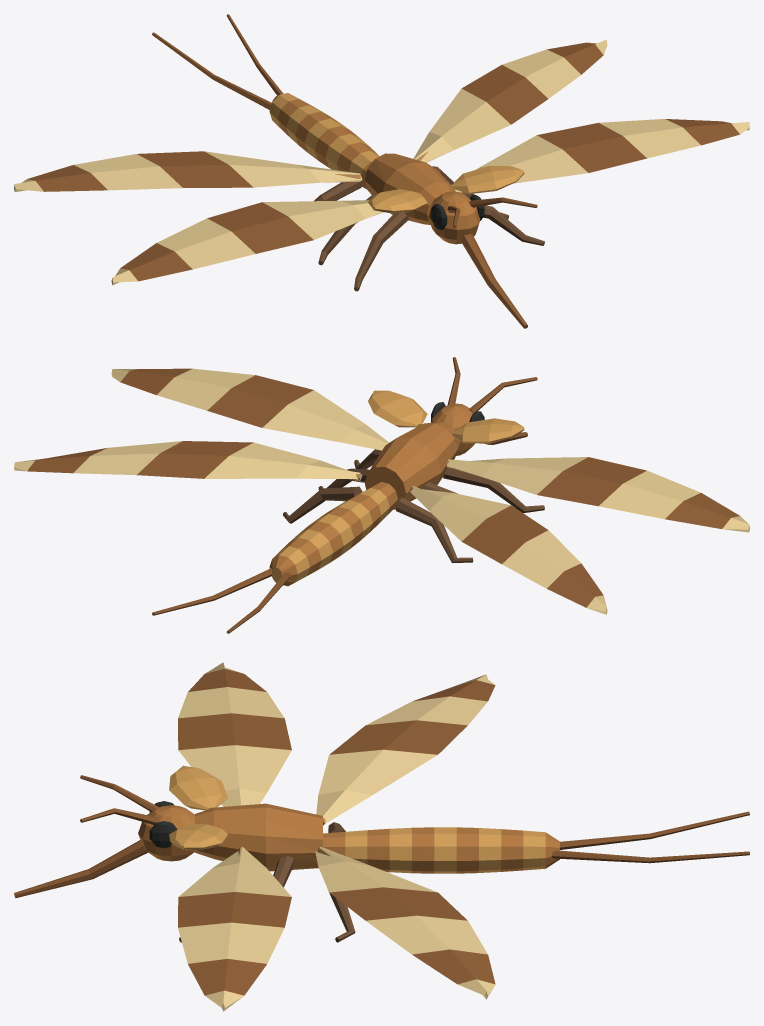
File: dunbaria.glb
The picture shows the model from 3 angles, top to bottom: view 1: azimuth 30°, elevation 25°; view 2: azimuth 150°, elevation 25°; view 3: azimuth 270°, elevation 25°; orthographic projection. The views are drawn at different scales.
Parts seen in each view (by area): view 1: left-forewing, left-hindwing, right-forewing, right-hindwing, segmented-abdomen, thorax, head, right-small-prothoracic-lobe, piercing-rostrum, left-small-prothoracic-lobe, left-walking-leg-0, left-cercus (+1 smaller); view 2: left-forewing, right-forewing, right-hindwing, left-hindwing, segmented-abdomen, thorax, right-small-prothoracic-lobe, left-small-prothoracic-lobe, left-walking-leg-2, left-walking-leg-0, right-walking-leg-2, head (+2 smaller); view 3: right-forewing, left-forewing, right-hindwing, left-hindwing, segmented-abdomen, thorax, left-small-prothoracic-lobe, head, piercing-rostrum, right-cercus, left-cercus, right-small-prothoracic-lobe.
Boxes of the visible parts, box(x1,y1,x2,y2) form: left-forewing: box(111, 200, 383, 285); left-hindwing: box(14, 151, 362, 191); right-forewing: box(451, 119, 749, 192); right-hindwing: box(413, 39, 607, 162); segmented-abdomen: box(269, 93, 379, 189); thorax: box(365, 153, 455, 224); head: box(428, 191, 480, 244); right-small-prothoracic-lobe: box(452, 166, 524, 193); piercing-rostrum: box(460, 234, 527, 328); left-small-prothoracic-lobe: box(368, 189, 427, 212); left-walking-leg-0: box(354, 212, 409, 291); left-cercus: box(152, 32, 271, 109); left-forewing: box(447, 457, 749, 532); right-forewing: box(111, 368, 389, 450); right-hindwing: box(14, 441, 362, 480); left-hindwing: box(410, 486, 607, 614); segmented-abdomen: box(269, 482, 397, 586); thorax: box(365, 422, 460, 509); right-small-prothoracic-lobe: box(368, 390, 427, 427); left-small-prothoracic-lobe: box(452, 418, 524, 443); left-walking-leg-2: box(396, 497, 473, 562); left-walking-leg-0: box(443, 467, 544, 513); right-walking-leg-2: box(283, 486, 362, 523); head: box(431, 403, 474, 455); right-forewing: box(178, 846, 291, 1011); left-forewing: box(178, 662, 291, 806); right-hindwing: box(315, 846, 495, 999); left-hindwing: box(316, 674, 495, 824); segmented-abdomen: box(323, 827, 559, 873); thorax: box(195, 803, 322, 871); left-small-prothoracic-lobe: box(169, 765, 227, 810); head: box(138, 805, 194, 861); piercing-rostrum: box(14, 840, 147, 897); right-cercus: box(552, 850, 749, 863); left-cercus: box(560, 811, 749, 849); right-small-prothoracic-lobe: box(169, 823, 227, 850).
Bounding box in the file's own units: 0.0595 × 0.00825 × 0.0543.
